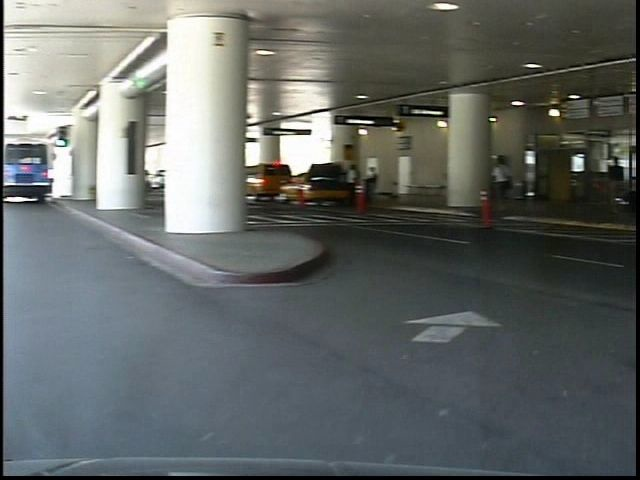person: (496, 153, 523, 213)
